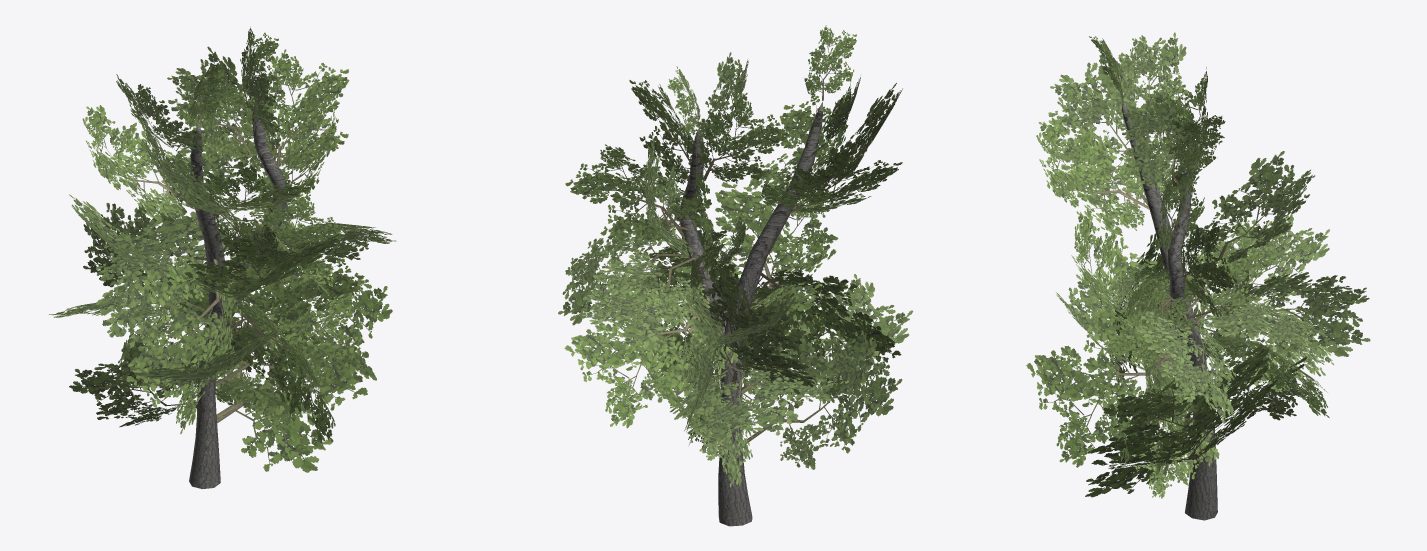
3 views of the same model, side by side, from view 1: azimuth 30°, elevation 25°; view 2: azimuth 150°, elevation 25°; view 3: azimuth 270°, elevation 25° (orthographic). The views are drawn at different scales.
Visible parts, largest first — view 1: Tree-03-4; view 2: Tree-03-4; view 3: Tree-03-4.
Part boxes in pixels (x1=…): Tree-03-4: x1=49, y1=26, x2=396, y2=489; Tree-03-4: x1=558, y1=25, x2=913, y2=526; Tree-03-4: x1=1026, y1=32, x2=1370, y2=520.
Bounding box in the file's own units: 520 × 604 × 495.
